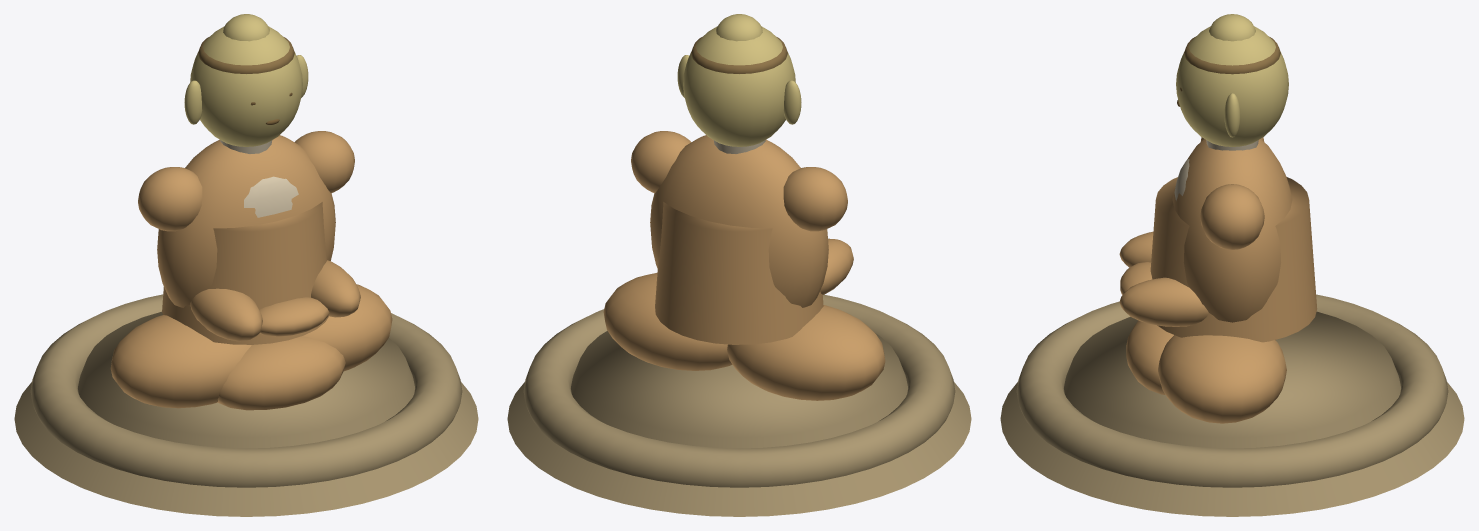
Rendered from tuong_phat.glb.
3 views of the same model, side by side, from view 1: azimuth 30°, elevation 25°; view 2: azimuth 150°, elevation 25°; view 3: azimuth 270°, elevation 25° (orthographic).
Visible parts, largest first — view 1: TuongPhat; view 2: TuongPhat; view 3: TuongPhat.
Boxes of the visible parts, x1,y1,x2,y2 form: TuongPhat: (14,14,478,516); TuongPhat: (507,14,971,516); TuongPhat: (1000,14,1464,516).
Bounding box in the file's own units: 2.3 × 2.2 × 2.3.
